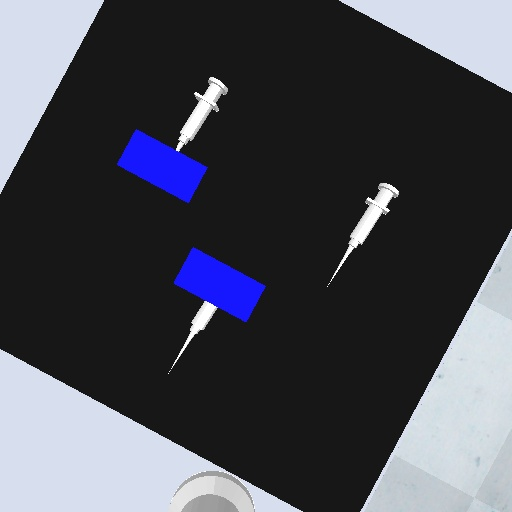jeringuilla: (324, 179, 402, 293), (173, 74, 231, 156), (166, 298, 221, 376)
